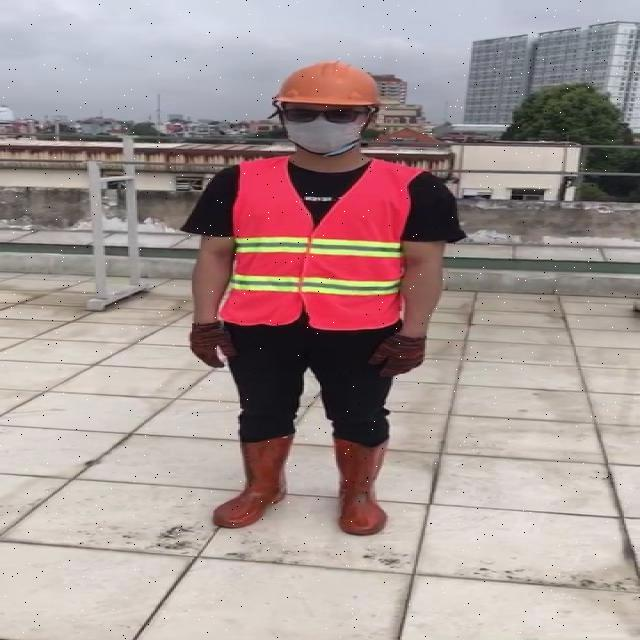Hard_hat: (268, 55, 386, 118)
Vest: (229, 155, 413, 332)
